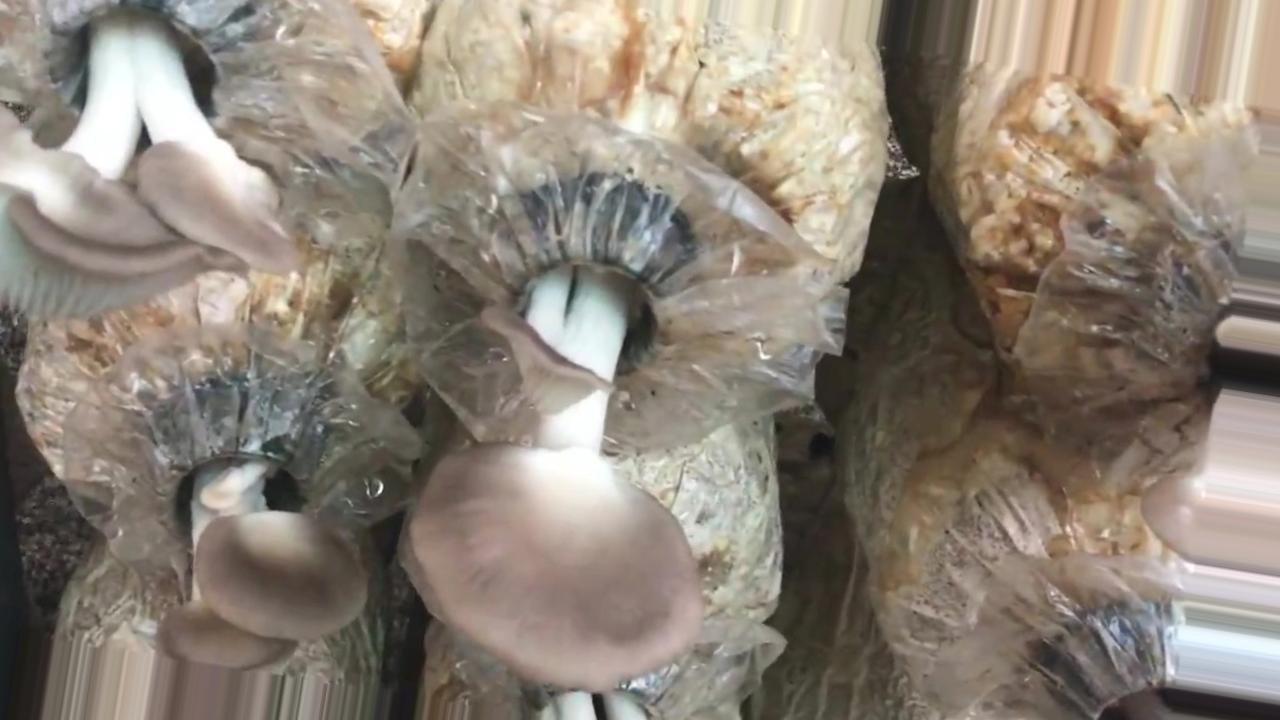nam: (405, 192, 710, 688), (1, 5, 299, 325), (149, 416, 363, 720)
